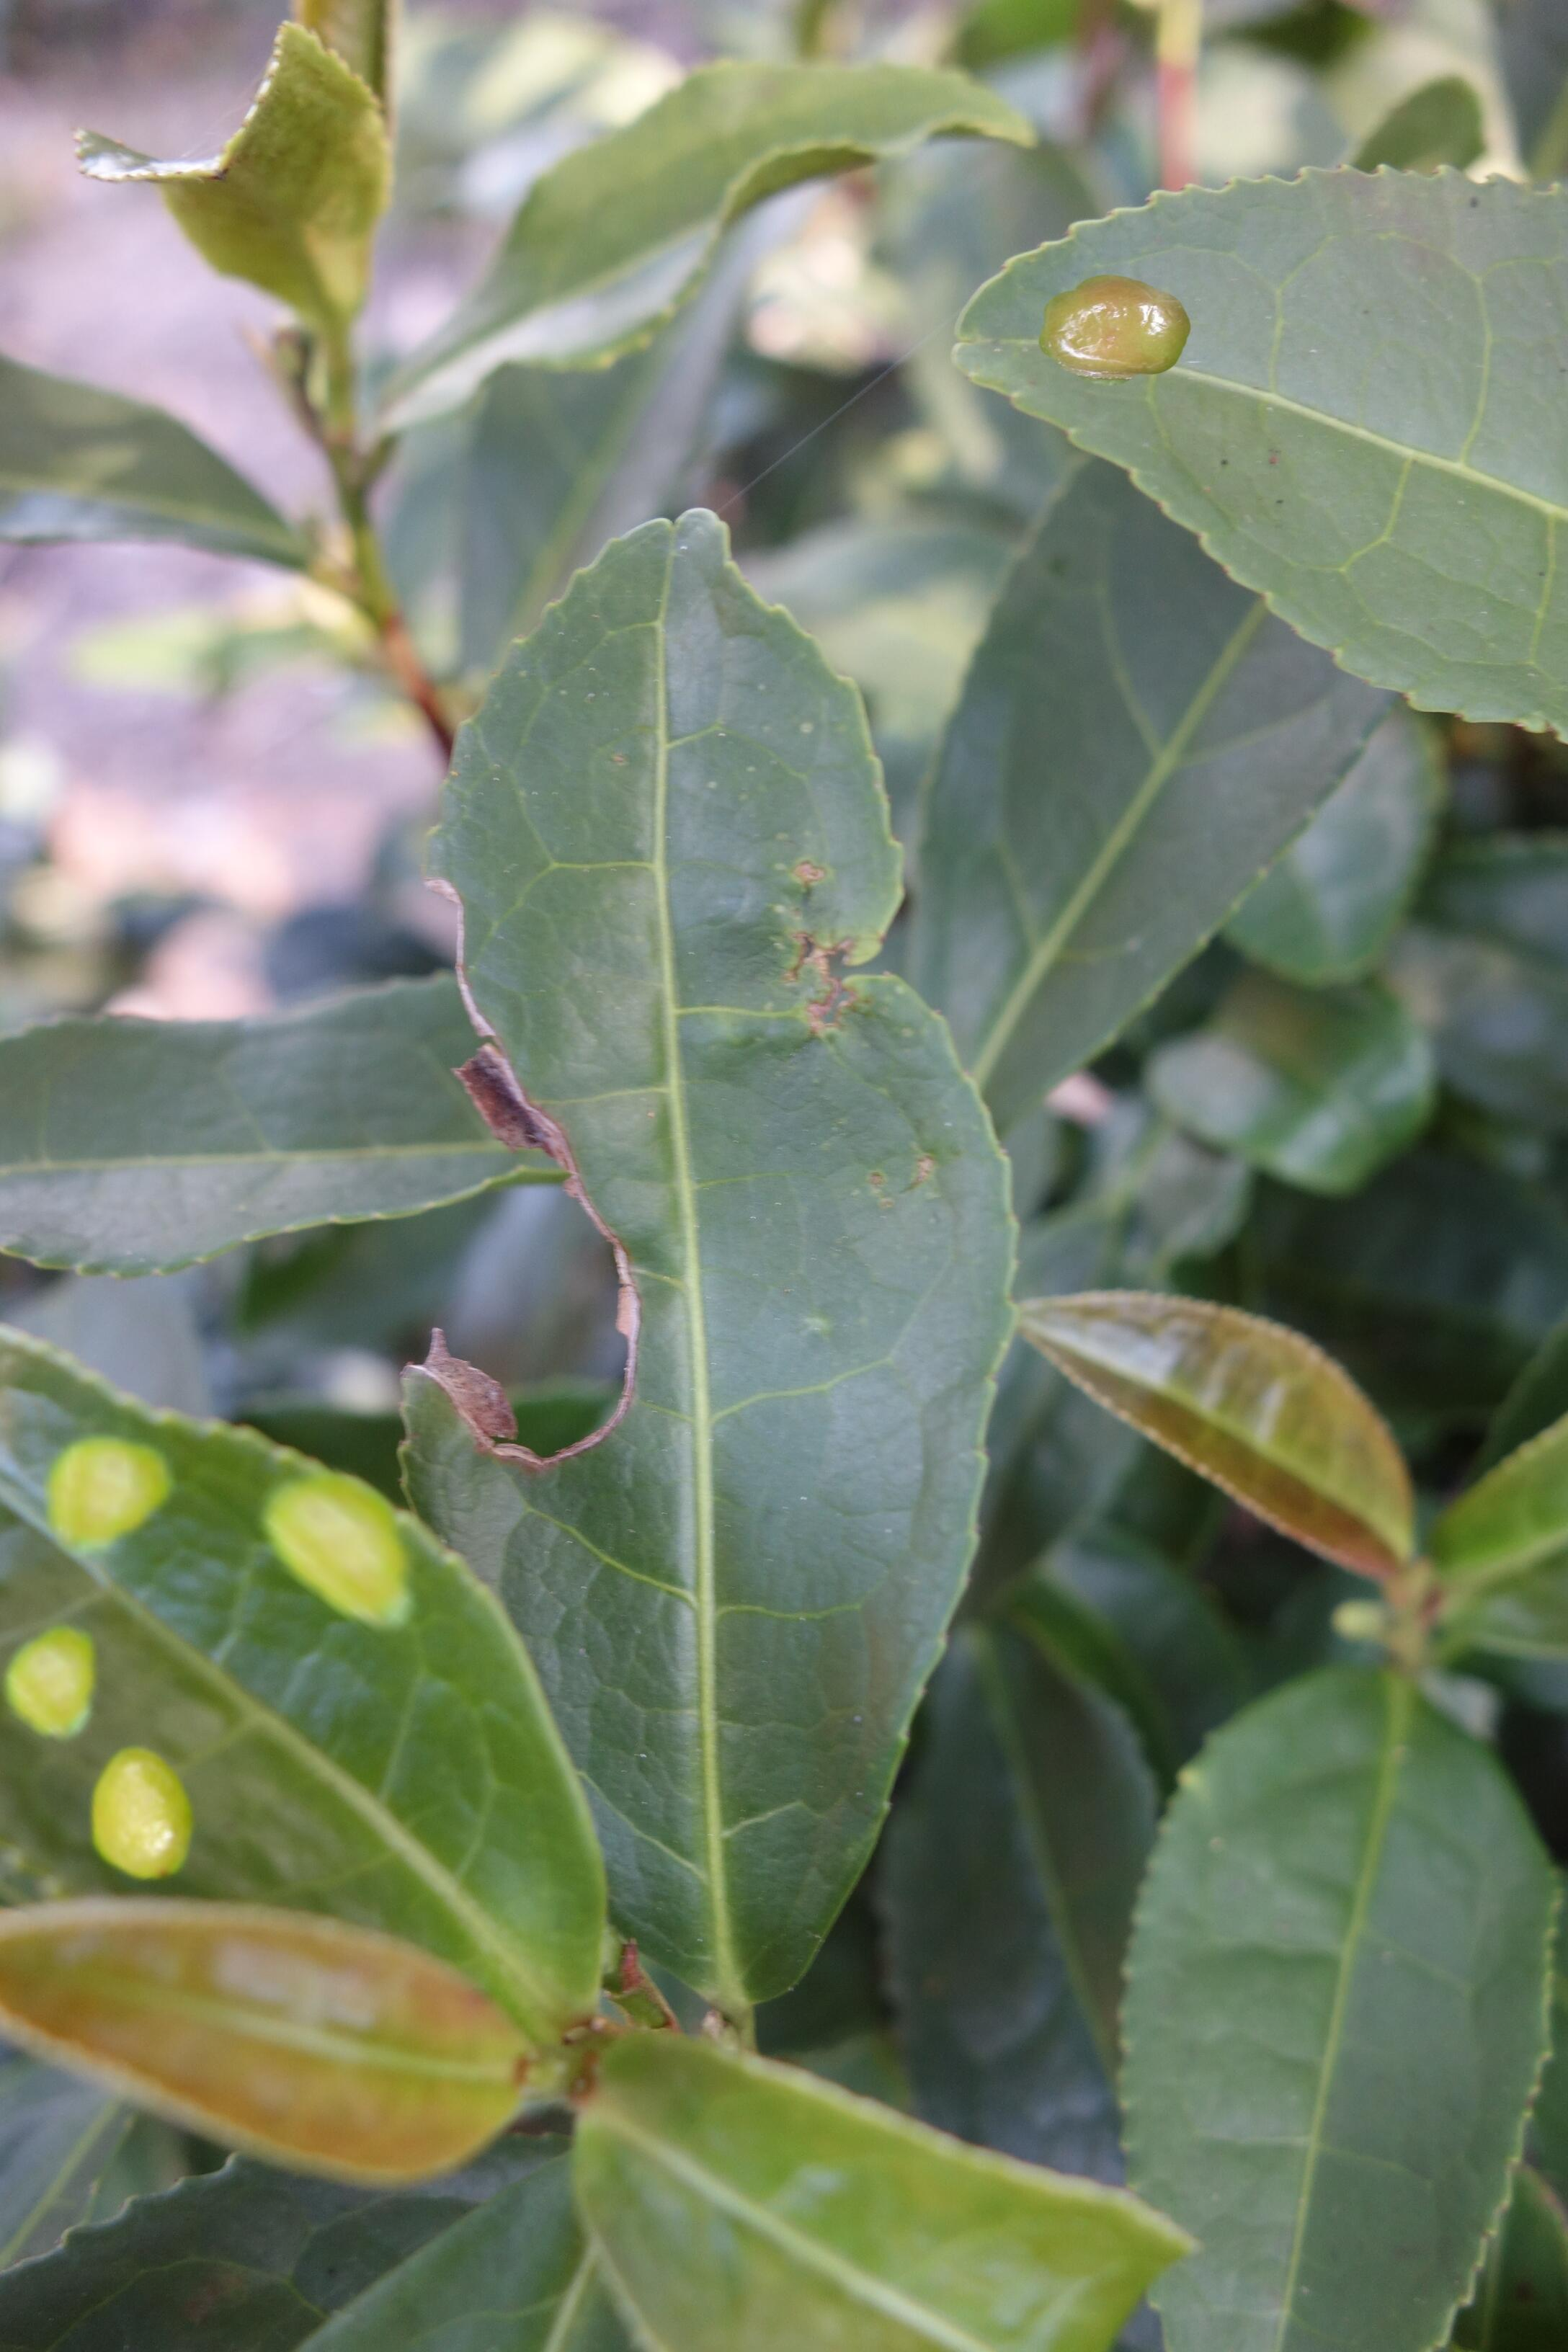chabing_high: (9, 1326, 609, 2023)
chabing_low: (950, 154, 1564, 735)
chihuo_high: (399, 499, 1015, 2011)
tanju_low: (7, 1899, 537, 2182), (1015, 1291, 1424, 1591)
